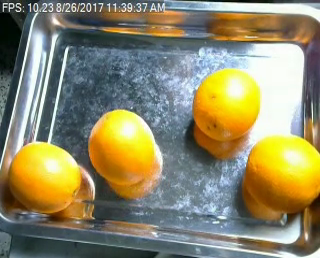Orange: (246, 135, 320, 215), (7, 140, 82, 214), (86, 107, 157, 184), (193, 69, 261, 141)
